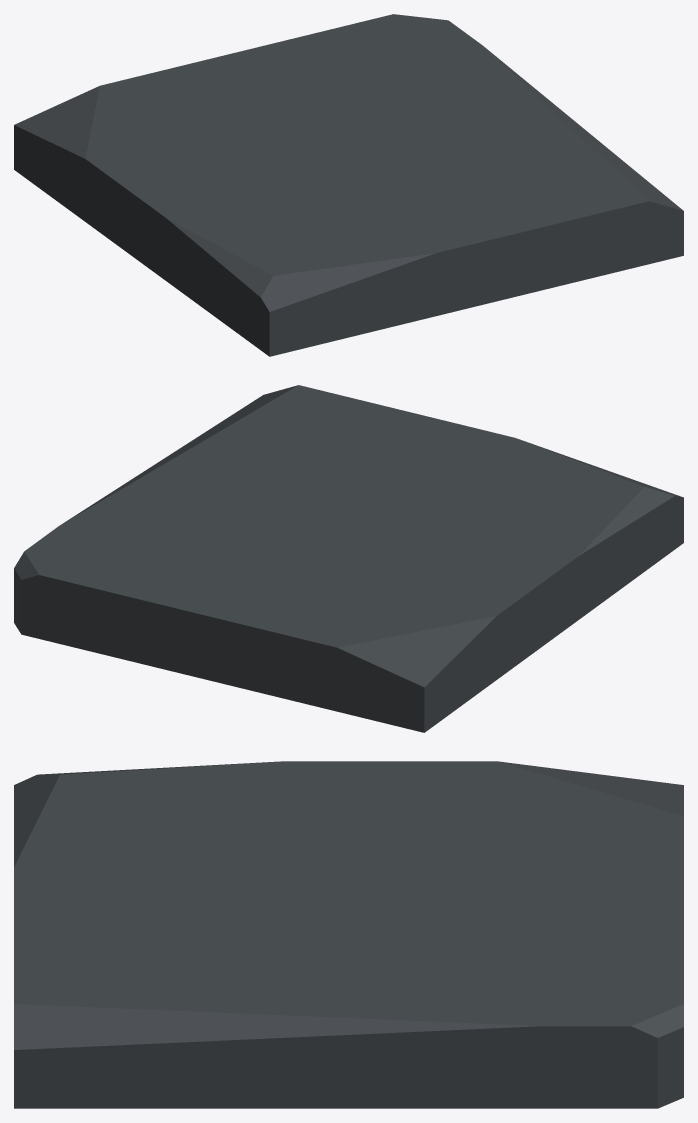
The model's file is Tile_03.fbx.
3 views of the same model, one above another, from view 1: azimuth 30°, elevation 25°; view 2: azimuth 150°, elevation 25°; view 3: azimuth 270°, elevation 25° (orthographic). The views are drawn at different scales.
Visible parts, largest first — view 1: Tile_03_LOD0; view 2: Tile_03_LOD0; view 3: Tile_03_LOD0.
Boxes of the visible parts, x1,y1,x2,y2 form: Tile_03_LOD0: (14, 14, 683, 356); Tile_03_LOD0: (14, 385, 683, 732); Tile_03_LOD0: (14, 761, 683, 1108).
Size of what is drawn, in the model's own units: 44.11 by 6.41 by 47.14.
